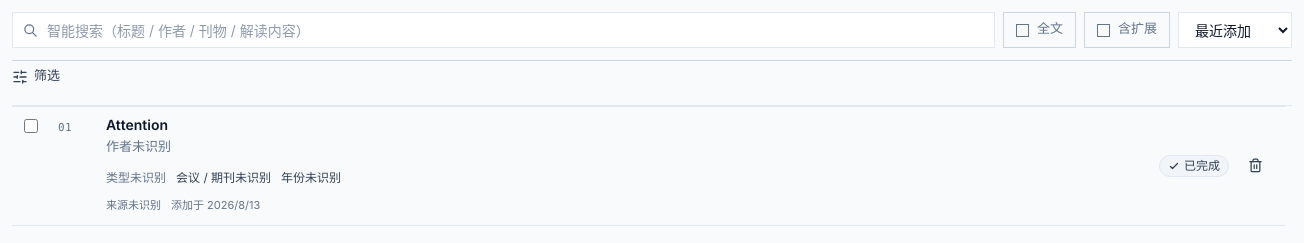
Test: 论文库搜索 › 清除按钮清空输入并退出搜索
The width and height of the screenshot is (1304, 243).
Step 1. Type "deep" into the field named "搜索论文" → [504, 30], box x1=12 y1=12 x2=995 y2=48
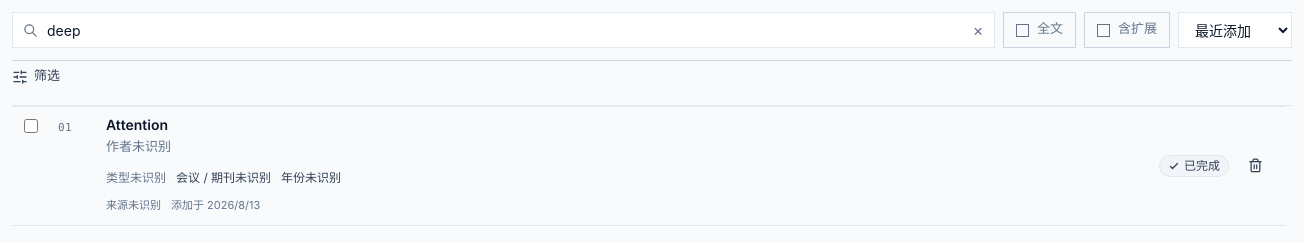
Step 2. Click the button named "清除搜索" → [978, 30], box x1=967 y1=19 x2=989 y2=41
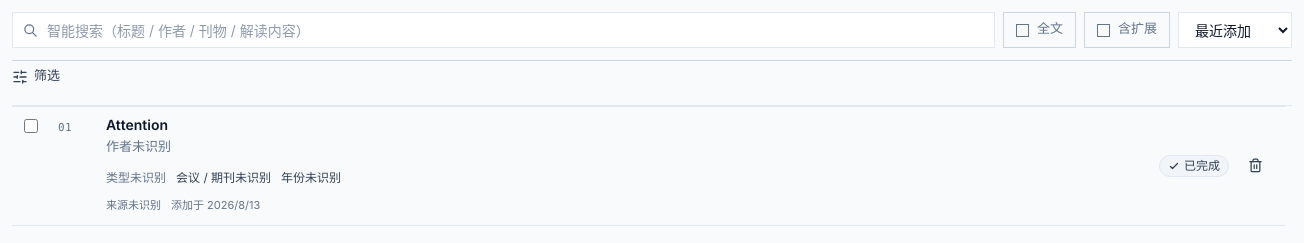
Expected: the field named "搜索论文" is empty, x1=12 y1=12 x2=995 y2=48
